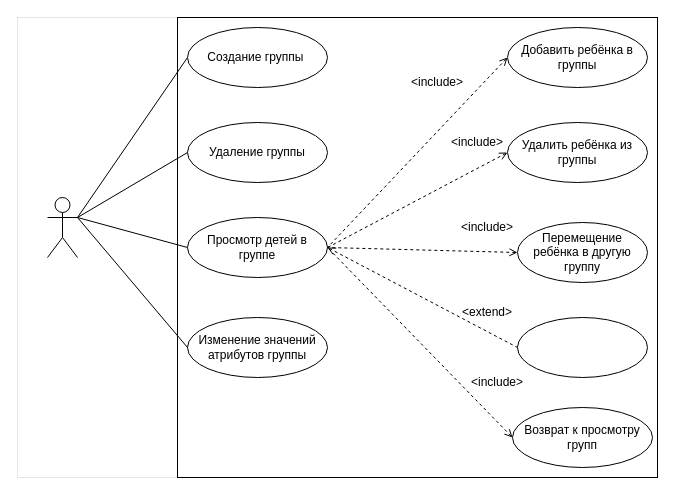
The diagram is 675 pixels wide and 495 high, and some of its shapes have lost their labels. Each missing label, with the centre of its shape:
"Изменение значений атрибутов ребёнка из группы" belongs at (x=582, y=347).
"Пользователь" belongs at (x=62, y=227).
